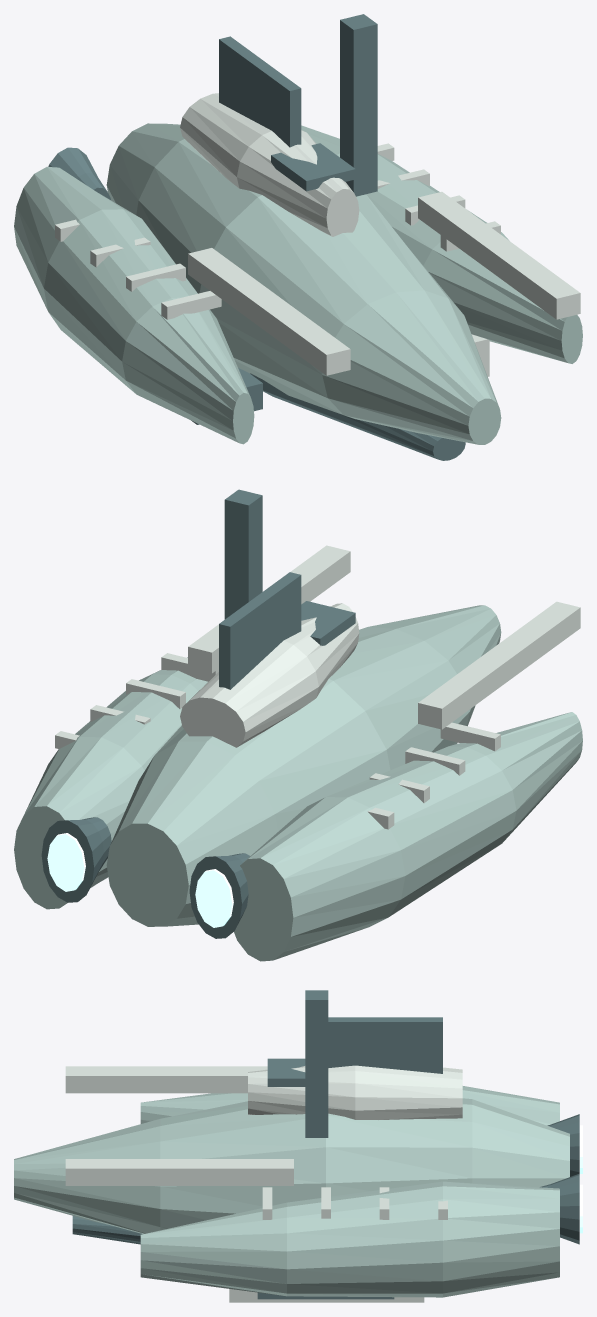
3 renders of one model, top to bottom at view 1: azimuth 30°, elevation 25°; view 2: azimuth 150°, elevation 25°; view 3: azimuth 270°, elevation 25°, orthographic. The views are drawn at different scales.
Bounding box in the file's own units: 7.89 × 6.78 × 11.97.
